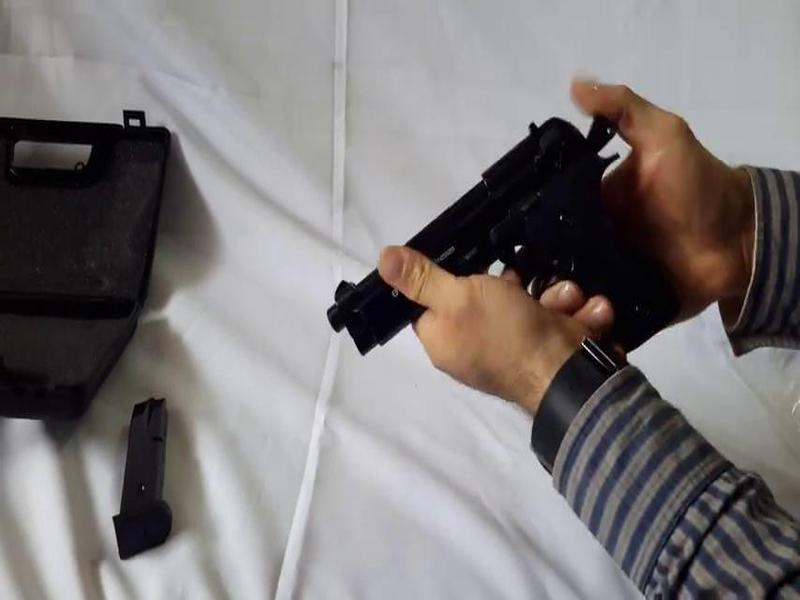Pistola: (307, 104, 704, 367)
